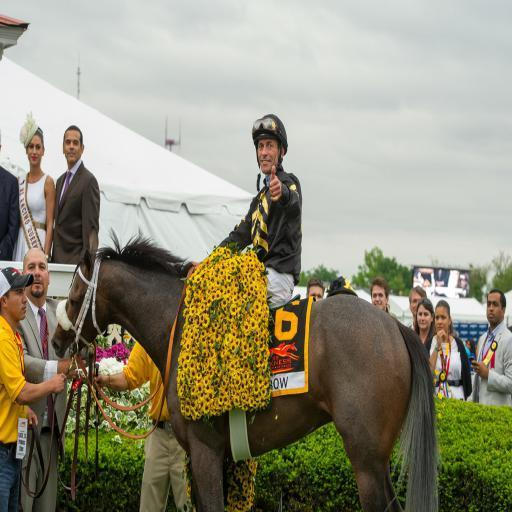horse: (52, 226, 440, 512)
